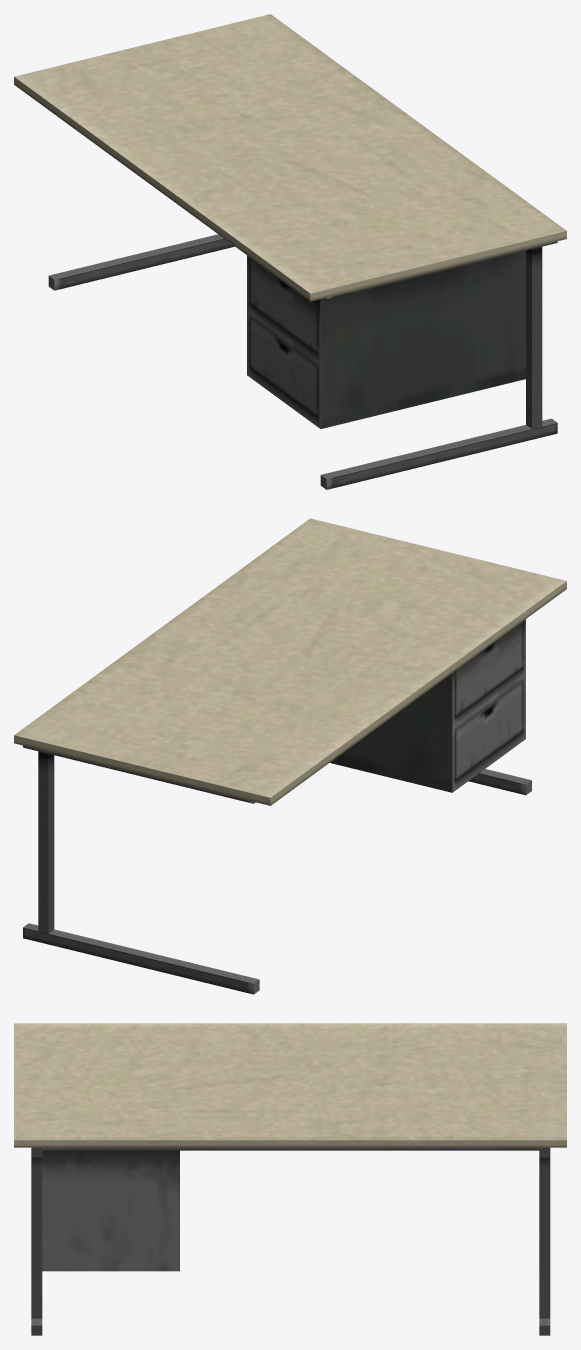
File: ComputerTable.glb
The picture shows the model from 3 angles, top to bottom: view 1: azimuth 30°, elevation 25°; view 2: azimuth 150°, elevation 25°; view 3: azimuth 270°, elevation 25°; orthographic projection. The views are drawn at different scales.
Visible parts, largest first — view 1: COMPUTERTABLE; view 2: COMPUTERTABLE; view 3: COMPUTERTABLE.
Part boxes in pixels (left/top/right/bottom): COMPUTERTABLE: left=14, top=14, right=566, bottom=489; COMPUTERTABLE: left=14, top=518, right=566, bottom=994; COMPUTERTABLE: left=14, top=1023, right=566, bottom=1335.
Bounding box in the file's own units: 1 × 0.78 × 2.
Materials: 1 (1 with a texture image).
